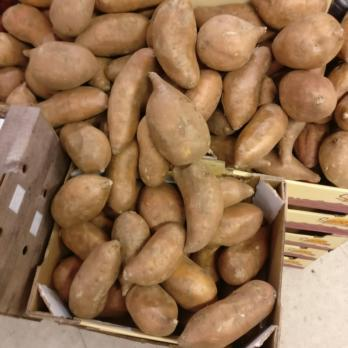Sweet potato: (54, 106, 275, 331), (0, 1, 348, 103)
